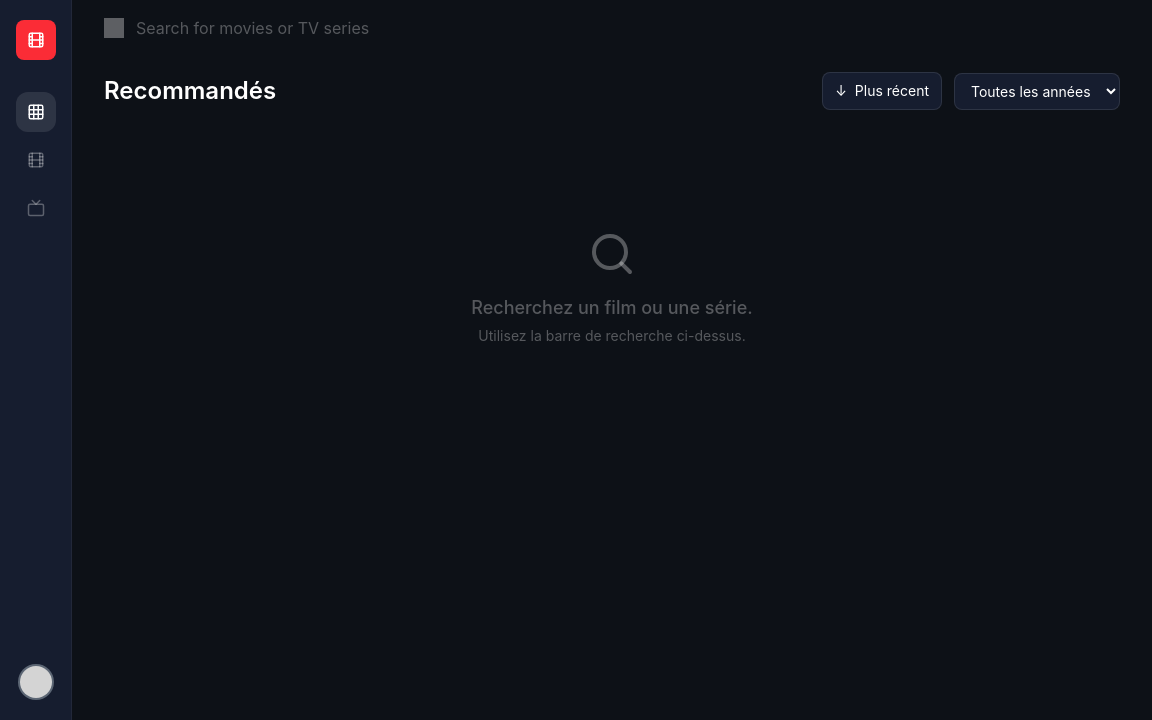
Recherche depuis l'accueil › affiche un message d'erreur si le chargement échoue
The width and height of the screenshot is (1152, 720).
In the search field: (628, 28) [136, 16, 1120, 40], type "batman"
Wait 500 ms
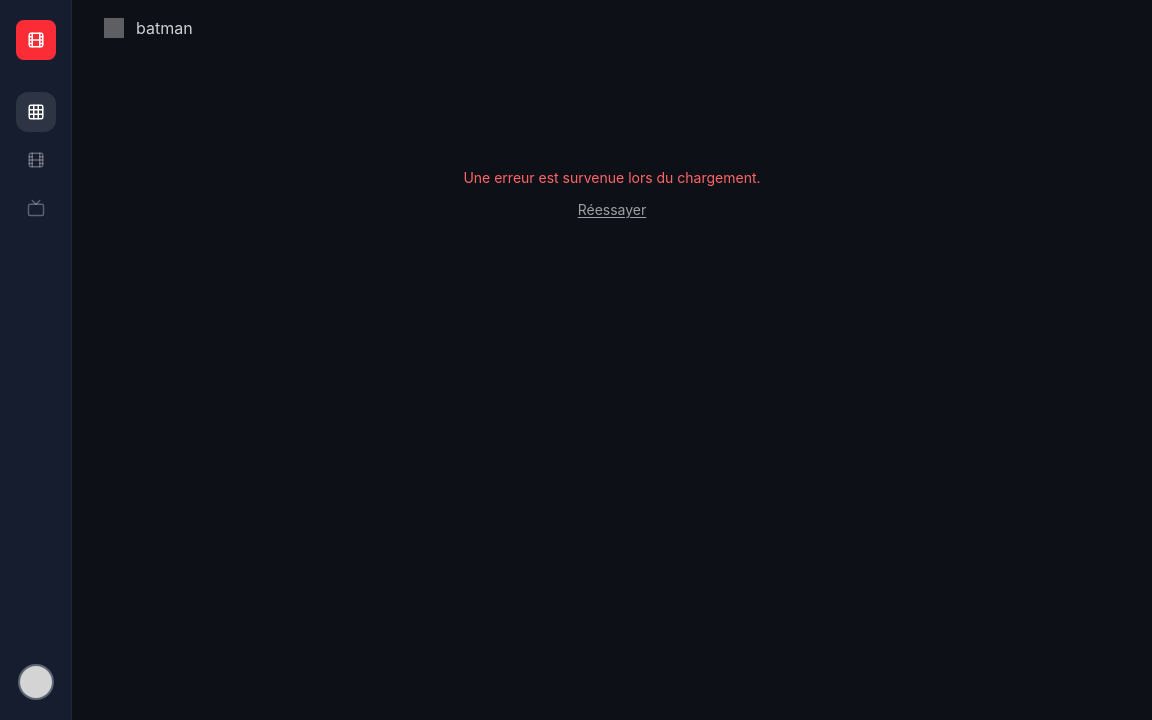
Now the element with test id "content-error" is shown, box [463, 169, 761, 220]
